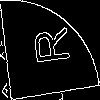R: (25, 25, 70, 68)
